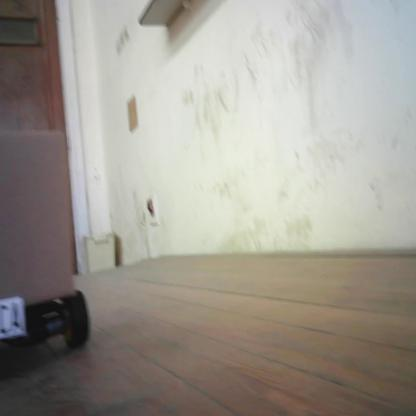LeadTruck: (2, 126, 91, 354)
